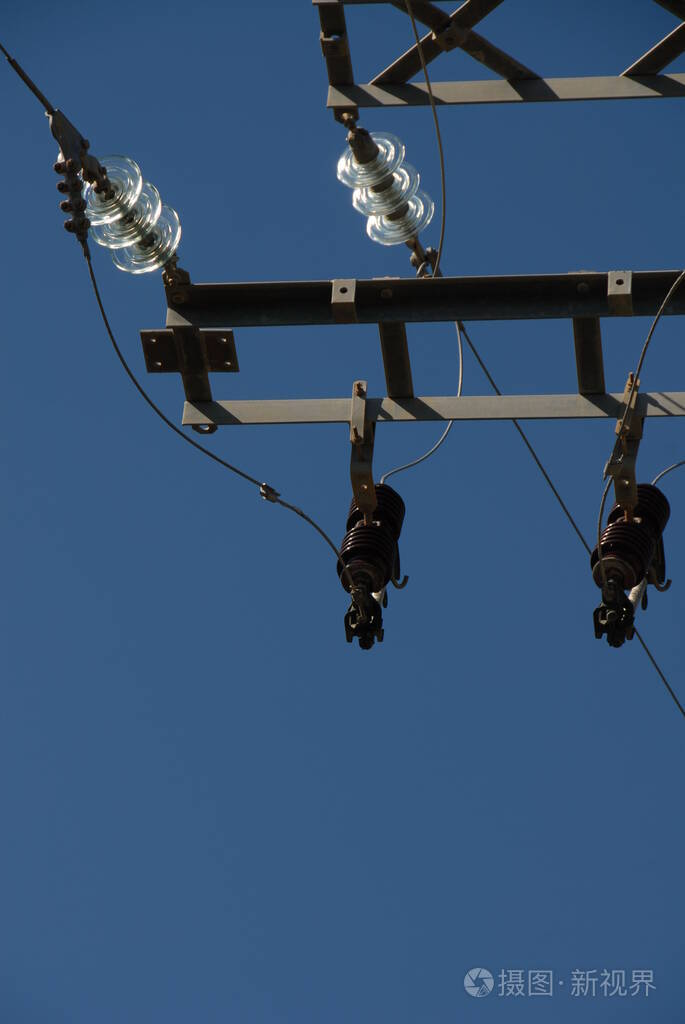insulator: (74, 155, 180, 275), (338, 131, 439, 248)
